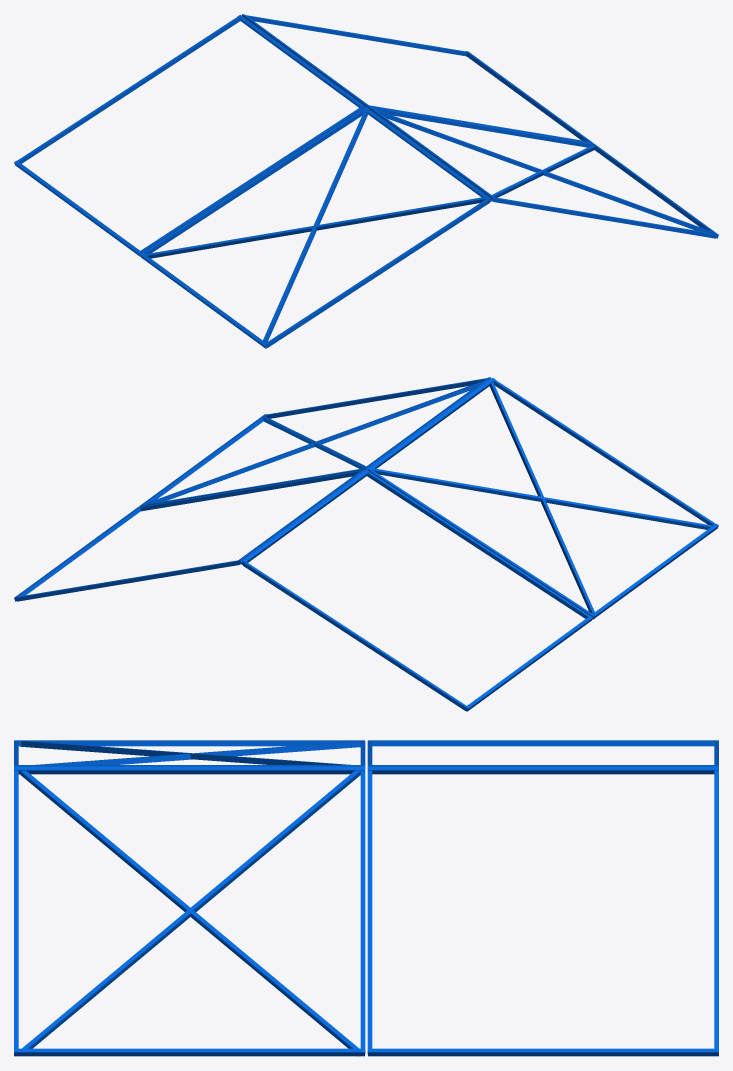
File: F_01_Roof_Metal_02.fbx
3 views of the same model, one above another, from view 1: azimuth 30°, elevation 25°; view 2: azimuth 150°, elevation 25°; view 3: azimuth 270°, elevation 25° (orthographic). The views are drawn at different scales.
Parts seen in each view (by area): view 1: F_01_Roof_Metal_02; view 2: F_01_Roof_Metal_02; view 3: F_01_Roof_Metal_02.
Part boxes in pixels (<box>): F_01_Roof_Metal_02: <box>14,14,718,348</box>; F_01_Roof_Metal_02: <box>14,377,718,711</box>; F_01_Roof_Metal_02: <box>14,740,718,1056</box>.
Bounding box in the file's own units: 1875 × 381 × 1791.
